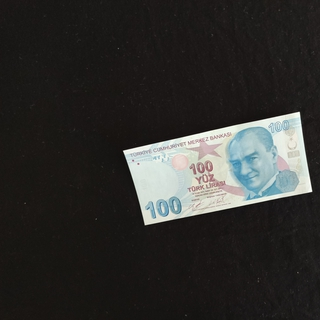100TLFront: (122, 111, 313, 226)
